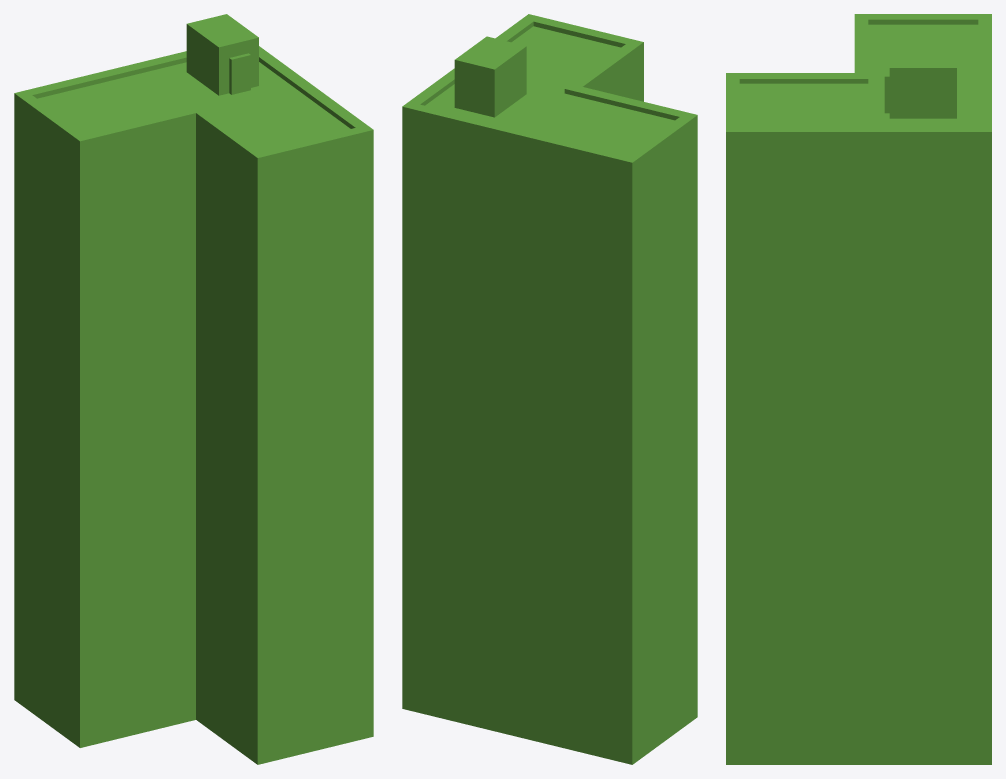
File: Building3_green.fbx
3 views of the same model, side by side, from view 1: azimuth 30°, elevation 25°; view 2: azimuth 150°, elevation 25°; view 3: azimuth 270°, elevation 25° (orthographic). The views are drawn at different scales.
Parts seen in each view (by area): view 1: Building 3; view 2: Building 3; view 3: Building 3.
Boxes of the visible parts, x1=… form: Building 3: x1=14, y1=14, x2=373, y2=764; Building 3: x1=402, y1=14, x2=697, y2=764; Building 3: x1=726, y1=14, x2=991, y2=764.
Size of the model in its own units: 1368 by 3664 by 1302.
1 material, 1 textured.
